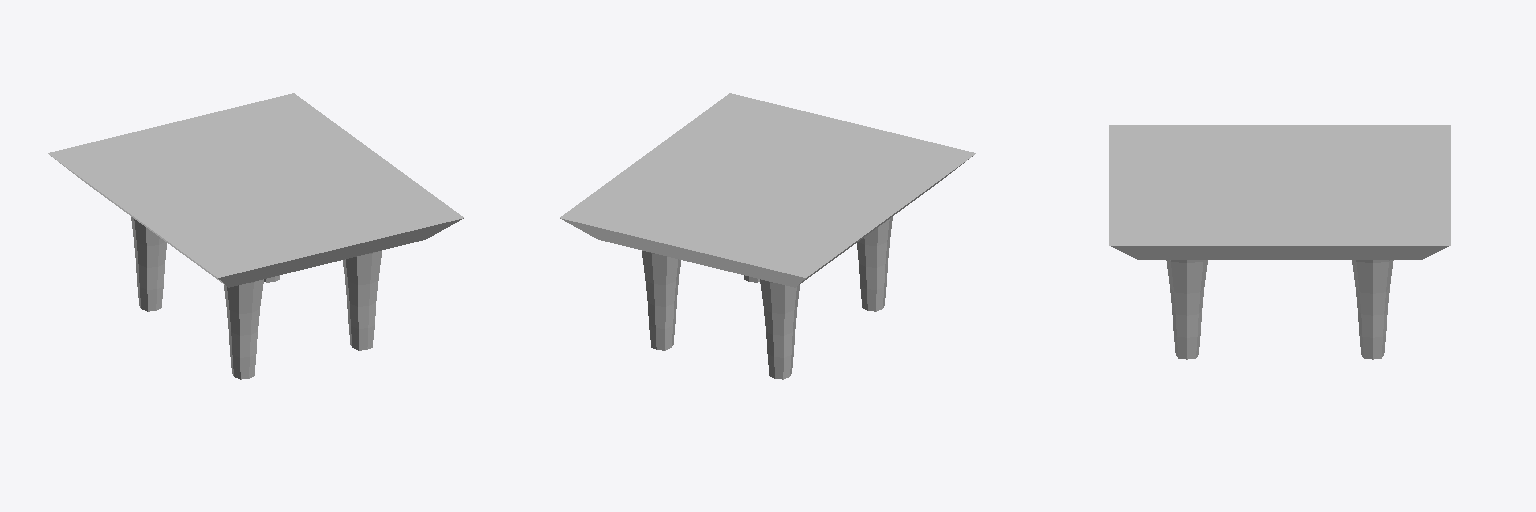
The model's file is tablenew.obj.
3 views of the same model, side by side, from view 1: azimuth 30°, elevation 25°; view 2: azimuth 150°, elevation 25°; view 3: azimuth 270°, elevation 25° (orthographic).
Parts seen in each view (by area): view 1: Box01; view 2: Box01; view 3: Box01.
Boxes of the visible parts, x1=… form: Box01: x1=48, y1=93, x2=463, y2=379; Box01: x1=560, y1=93, x2=975, y2=379; Box01: x1=1109, y1=125, x2=1450, y2=359.
Bounding box in the file's own units: 50 × 27.24 × 59.92.